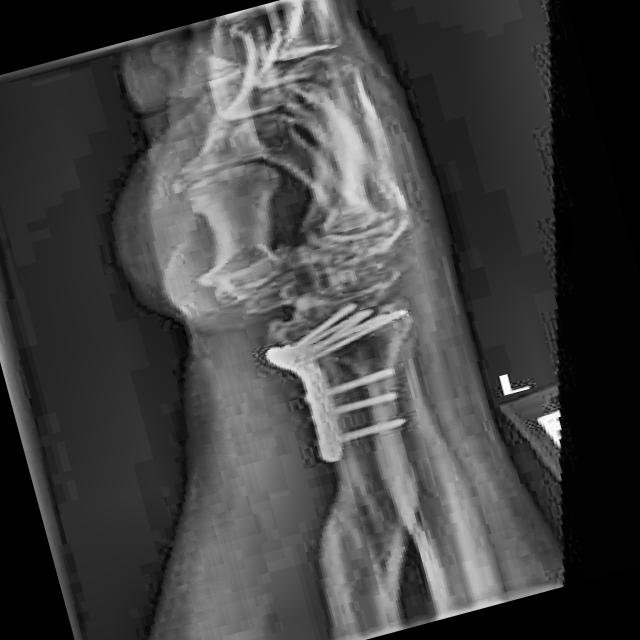wrist positive: (328, 312, 437, 387)
